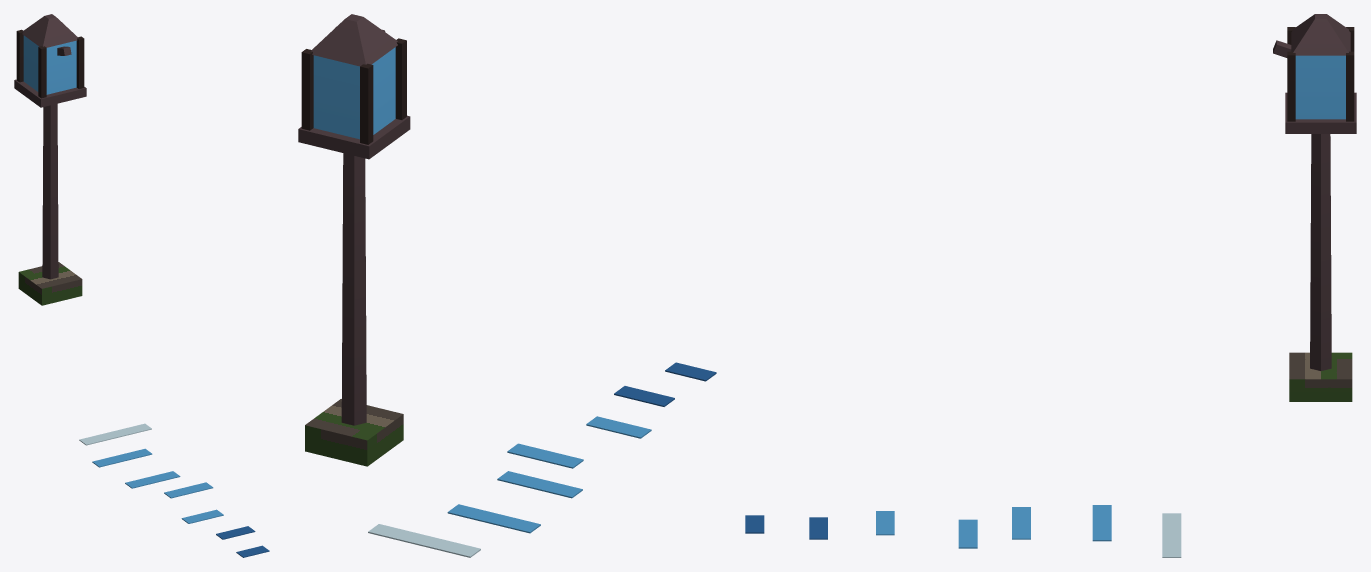
File: quay_lantern.glb
3 renders of one model, left to right at view 1: azimuth 30°, elevation 25°; view 2: azimuth 150°, elevation 25°; view 3: azimuth 270°, elevation 25°, orthographic. The views are drawn at different scales.
Parts seen in each view (by area): view 1: quay_lantern; view 2: quay_lantern; view 3: quay_lantern.
Boxes of the visible parts, x1=… form: quay_lantern: x1=14, y1=14, x2=269, y2=557; quay_lantern: x1=298, y1=14, x2=716, y2=557; quay_lantern: x1=745, y1=14, x2=1356, y2=557.
Bounding box in the file's own units: 0.5848 × 2.7 × 2.92.
Materials: 3 (1 with a texture image).
